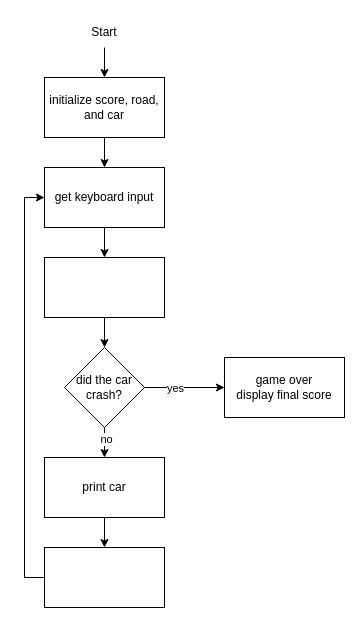
The diagram is 362 pixels wide and 625 high, and some of its shapes have lost their labels. Here are the shapes that lost their labels. From the top down, the box of each, then its label:
(44, 256, 164, 318): set car position
(44, 546, 164, 608): randomize and print road
